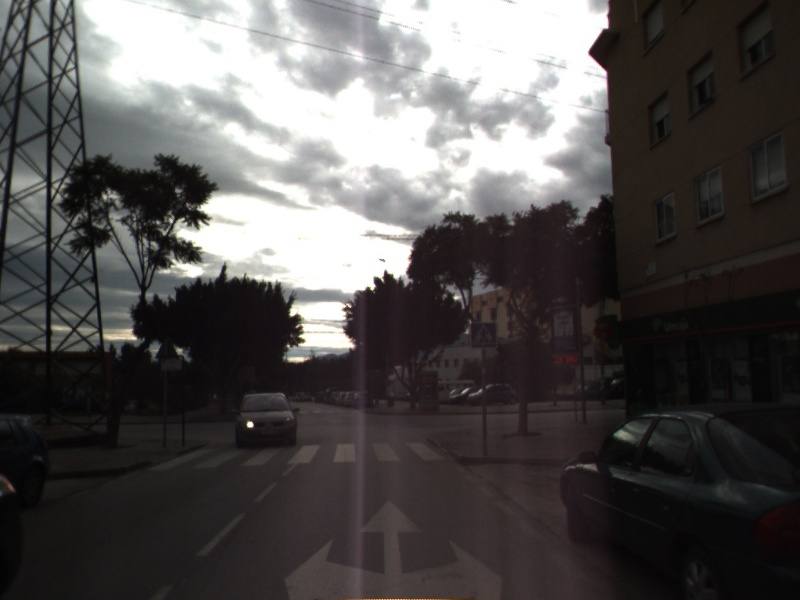STRAIGHT_LEFT_RIGHT: (281, 495, 508, 600)
